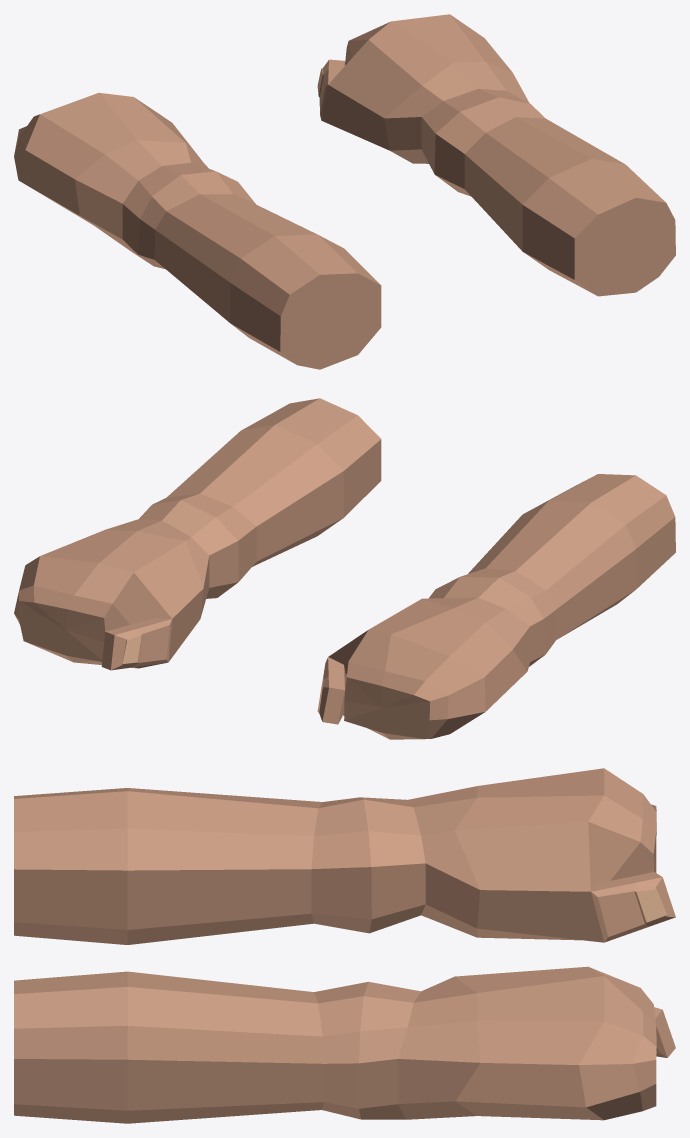
The model's file is LongHands.fbx.
The picture shows the model from 3 angles, top to bottom: view 1: azimuth 30°, elevation 25°; view 2: azimuth 150°, elevation 25°; view 3: azimuth 270°, elevation 25°; orthographic projection. The views are drawn at different scales.
Parts seen in each view (by area): view 1: Circle.057, Circle.066; view 2: Circle.057, Circle.066; view 3: Circle.066, Circle.057.
Part boxes in pixels (x1=…): Circle.057: x1=317, y1=14, x2=675, y2=296; Circle.066: x1=14, y1=92, x2=381, y2=369; Circle.057: x1=14, y1=398, x2=381, y2=670; Circle.066: x1=317, y1=474, x2=675, y2=739; Circle.066: x1=14, y1=768, x2=675, y2=944; Circle.057: x1=14, y1=966, x2=675, y2=1123.
Size of the model in its own units: 686 by 153 by 664.
